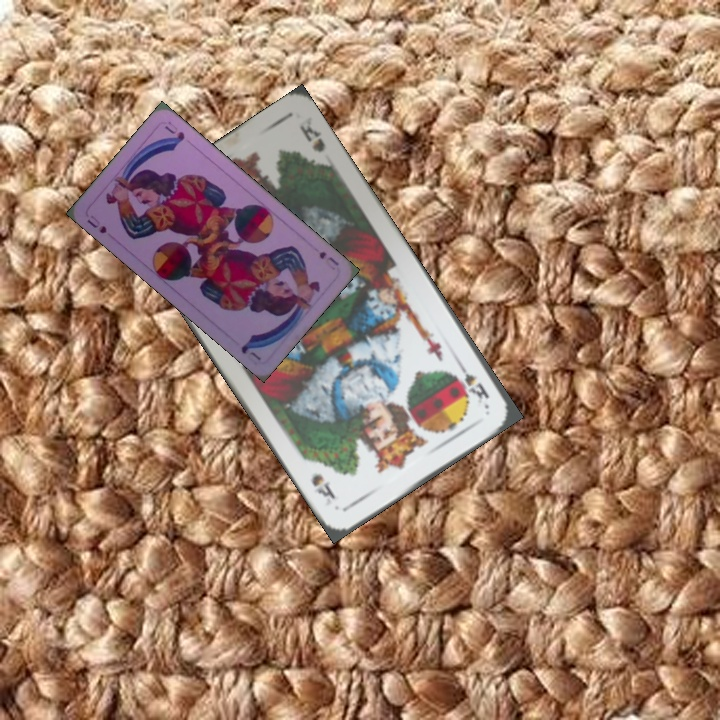SK: (453, 357, 492, 406)
SU: (83, 211, 110, 236), (315, 247, 342, 268)
